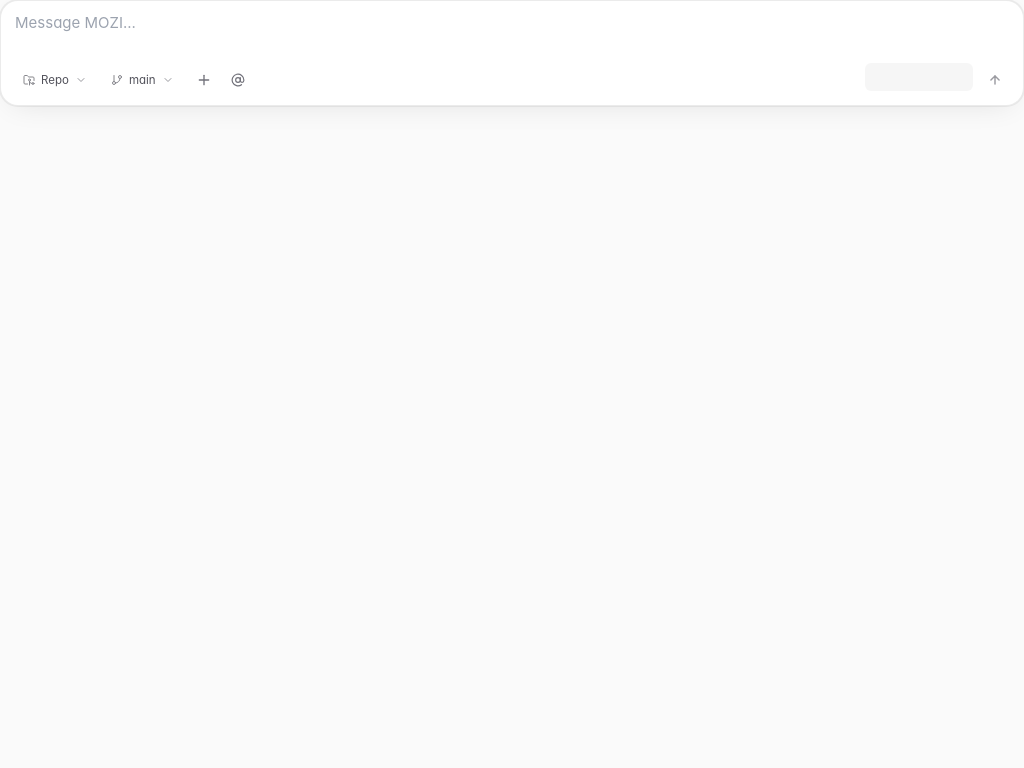
Test case: InputBar › shows the branch chip only for git repo roots and opens the branch picker on click
Clicking the branch chip (a Radix Popover trigger) opens the branch picker.
What coordinates should you click on to do the following:
click the button with test id "branch-chip"
I would click on:
 (142, 80)
Its box is [101, 66, 184, 94].
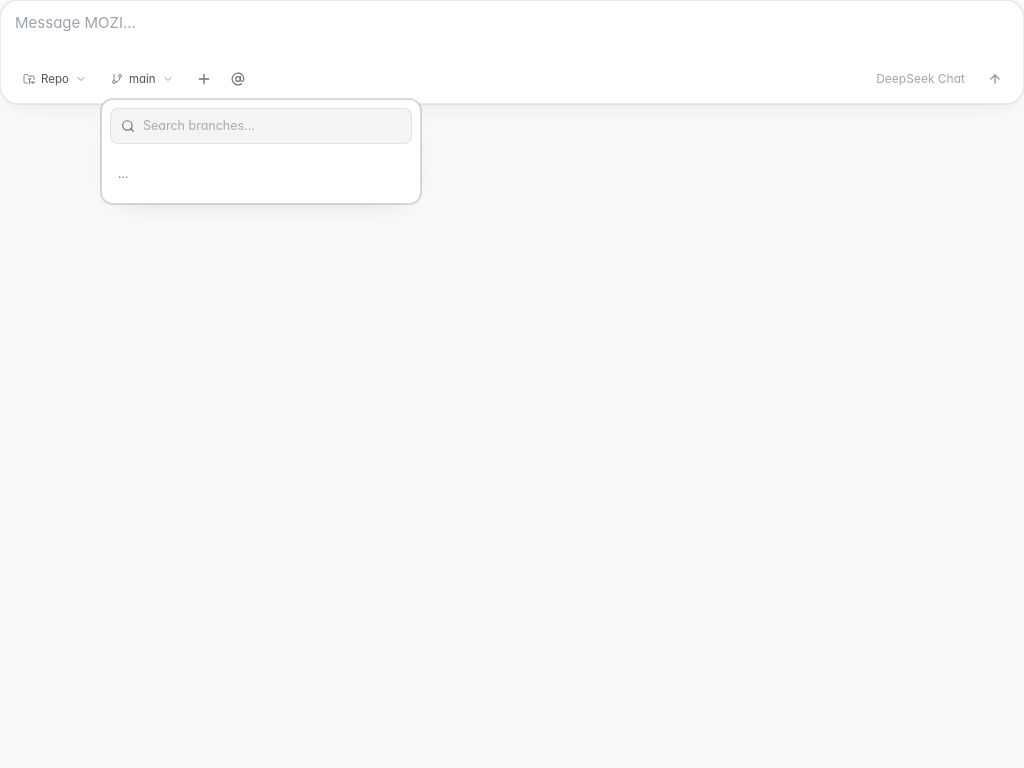
Now the dialog with test id "branch-picker" is shown, box [101, 99, 421, 204]
